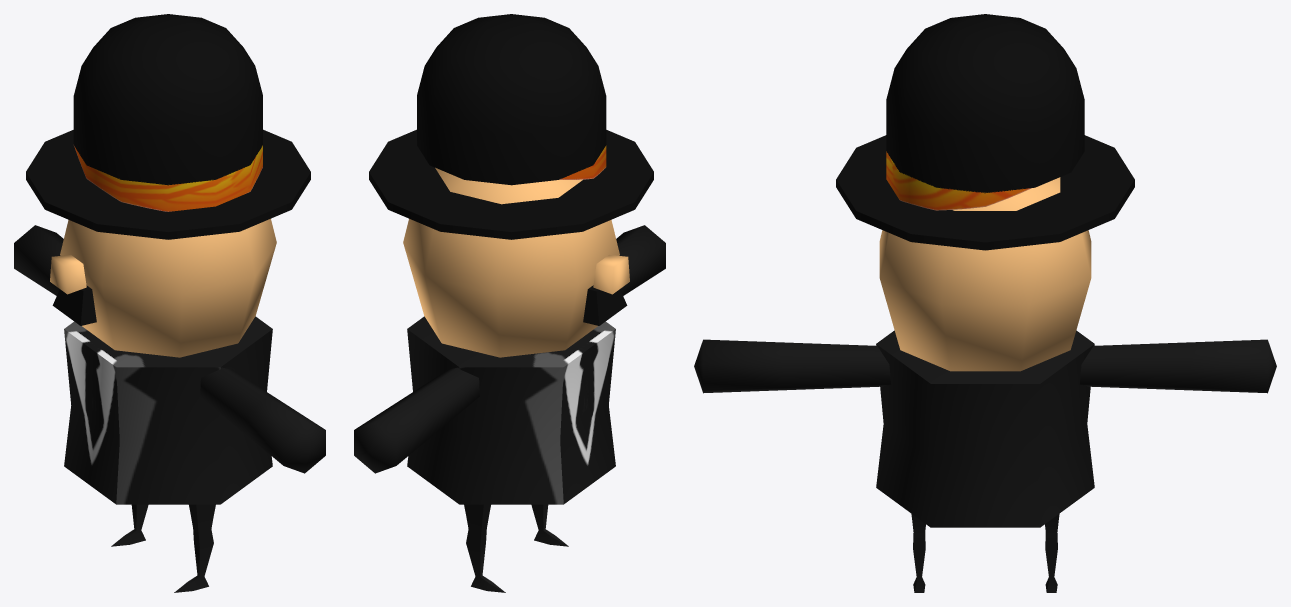
File: Chales chaplin.FBX
3 renders of one model, left to right at view 1: azimuth 30°, elevation 25°; view 2: azimuth 150°, elevation 25°; view 3: azimuth 270°, elevation 25°, orthographic. The views are drawn at different scales.
Visible parts, largest first — view 1: He sac lo, Mu he sac lo, Rau he sac lo; view 2: He sac lo, Mu he sac lo, Rau he sac lo; view 3: He sac lo, Mu he sac lo.
Boxes of the visible parts, x1,y1,x2,y2 form: He sac lo: (14, 218, 325, 592); Mu he sac lo: (26, 14, 310, 239); Rau he sac lo: (52, 285, 96, 325); He sac lo: (354, 167, 665, 592); Mu he sac lo: (369, 14, 653, 239); Rau he sac lo: (583, 285, 627, 325); He sac lo: (694, 177, 1276, 592); Mu he sac lo: (836, 14, 1134, 250).
Size of the model in its own units: 1.3 by 2.7 by 2.55.
